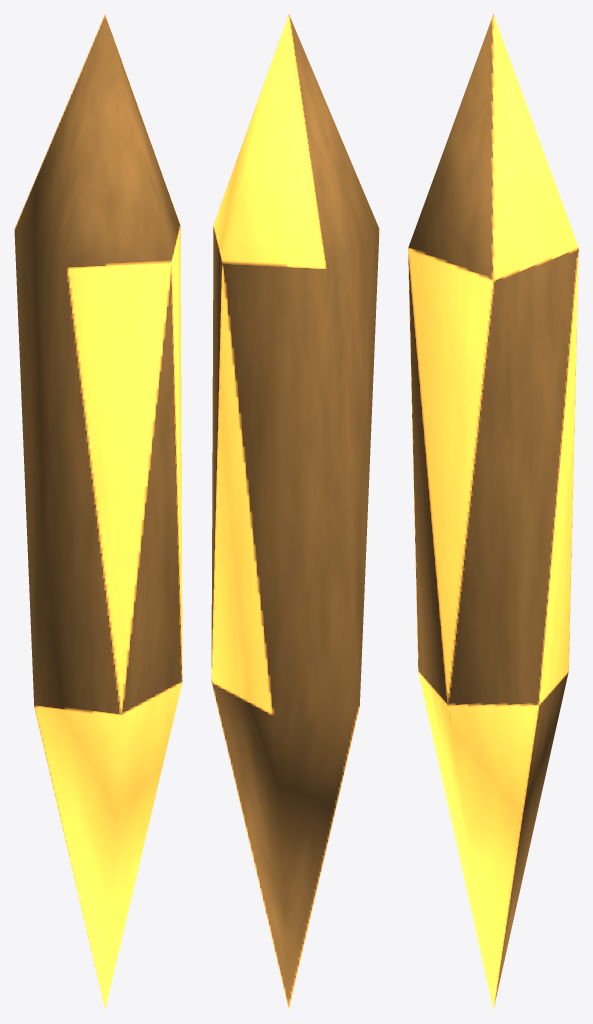
Rendered from impact_shard.glb.
3 renders of one model, left to right at view 1: azimuth 30°, elevation 25°; view 2: azimuth 150°, elevation 25°; view 3: azimuth 270°, elevation 25°, orthographic.
Parts seen in each view (by area): view 1: impact_shard_Mesh.001; view 2: impact_shard_Mesh.001; view 3: impact_shard_Mesh.001.
Part boxes in pixels (x1,y1,x2,y2): impact_shard_Mesh.001: (14,14,182,1009); impact_shard_Mesh.001: (211,14,379,1009); impact_shard_Mesh.001: (408,14,578,1009).
Size of the model in its own units: 0.0443 by 0.288 by 0.0448.
Materials: 1 (1 with a texture image).
